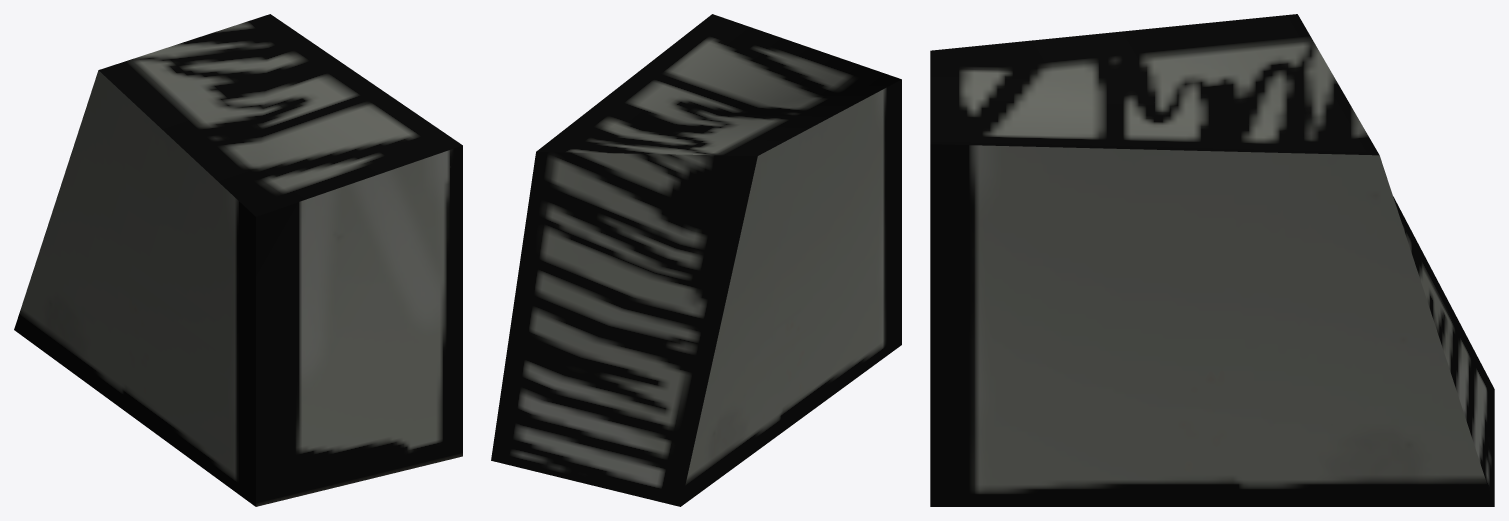
Rendered from tombstone_02_gib5.fbx.
3 renders of one model, left to right at view 1: azimuth 30°, elevation 25°; view 2: azimuth 150°, elevation 25°; view 3: azimuth 270°, elevation 25°, orthographic. The views are drawn at different scales.
Parts seen in each view (by area): view 1: tombstone_02_gib5; view 2: tombstone_02_gib5; view 3: tombstone_02_gib5.
Part boxes in pixels (left/top/right/bottom): tombstone_02_gib5: left=14, top=14, right=462, bottom=506; tombstone_02_gib5: left=491, top=14, right=901, bottom=506; tombstone_02_gib5: left=930, top=14, right=1494, bottom=506.
Size of the model in its own units: 1 by 1.48 by 2.02.
